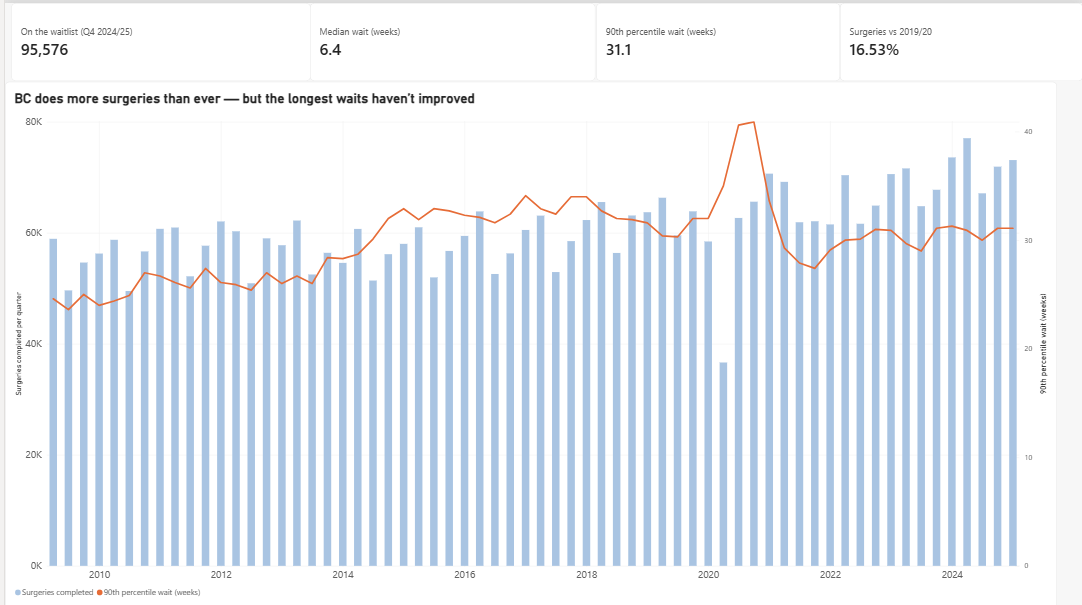

The page's visual inventory and layout, read from the dashboard file:
{"tool":"powerbi","page":{"name":"Overview","canvas":[1920,1080],"ordinal":0},"visuals":[{"type":"lineClusteredColumnComboChart","title":"BC does more surgeries than ever — but the longest waits haven’t improved","fields":{"Category":["province.quarter_start"],"Y":["_Measures.Province Completed"],"Y2":["_Measures.Province P90 (wks)"]},"box":[0,140,1873.1,940.7],"z":1000},{"type":"cardVisual","fields":{"Data":["_Measures.Latest Waitlist"]},"box":[10.3,0,533.1,140],"z":2000},{"type":"cardVisual","fields":{"Data":["_Measures.Latest Median (wks)"]},"box":[543.4,0,508.4,140],"z":3000},{"type":"cardVisual","fields":{"Data":["_Measures.Latest P90 (wks)"]},"box":[1051.8,0,434.3,140],"z":4000},{"type":"cardVisual","fields":{"Data":["_Measures.Province Growth %"]},"box":[1486.1,0,434.3,140],"z":5000}]}

Visuals, with their boxes in screenshot pixels (x1, y1, x2, y2), scaled from the page's 1920x1080 canvas onto the 1082x605 screenshot:
"BC does more surgeries than ever — but the longest waits haven’t improved" lineClusteredColumnComboChart: <box>0,78,1056,604</box>
cardVisual - _Measures.Latest Waitlist: <box>6,0,306,78</box>
cardVisual - _Measures.Latest Median (wks): <box>306,0,593,78</box>
cardVisual - _Measures.Latest P90 (wks): <box>593,0,837,78</box>
cardVisual - _Measures.Province Growth %: <box>837,0,1081,78</box>
